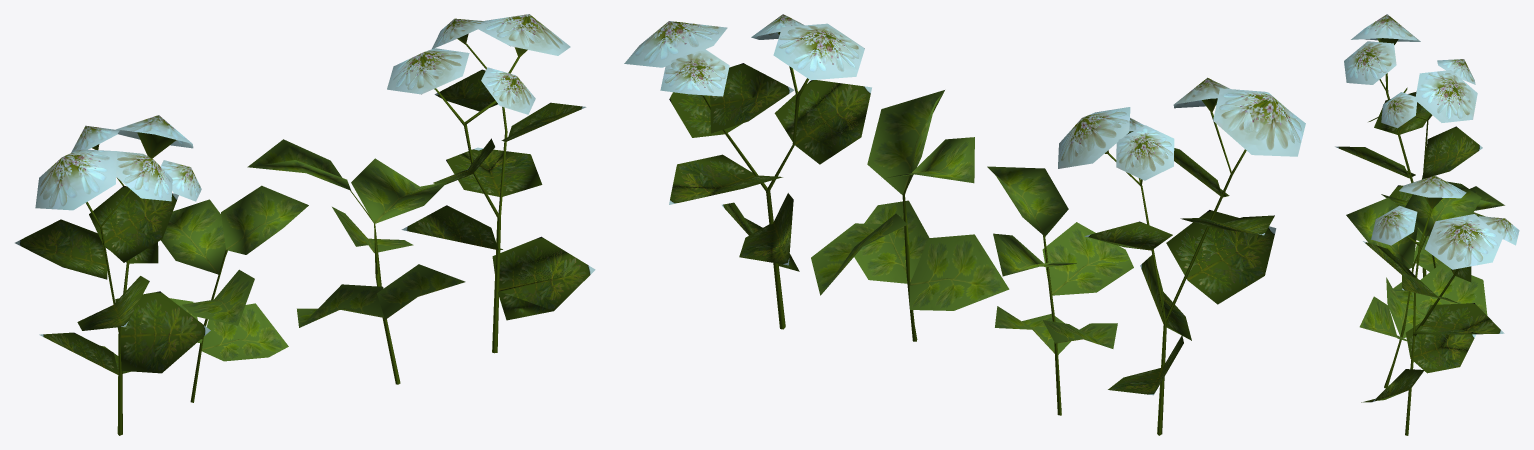
The model's file is Coriandrum sativum_m.FBX.
3 views of the same model, side by side, from view 1: azimuth 30°, elevation 25°; view 2: azimuth 150°, elevation 25°; view 3: azimuth 270°, elevation 25° (orthographic). The views are drawn at different scales.
Parts seen in each view (by area): view 1: Coriandrum sativum01, Coriandrum sativum02, Coriandrum sativum03, Coriandrum sativum04; view 2: Coriandrum sativum02, Coriandrum sativum01, Coriandrum sativum04, Coriandrum sativum03; view 3: Coriandrum sativum02, Coriandrum sativum01, Coriandrum sativum04, Coriandrum sativum03.
Part boxes in pixels (box(x1,y1,x2,y2)): Coriandrum sativum01: box(15, 115, 210, 435); Coriandrum sativum02: box(387, 14, 595, 353); Coriandrum sativum03: box(161, 185, 308, 402); Coriandrum sativum04: box(247, 139, 465, 384); Coriandrum sativum02: box(624, 14, 871, 329); Coriandrum sativum01: box(1058, 77, 1305, 435); Coriandrum sativum04: box(811, 90, 1009, 341); Coriandrum sativum03: box(987, 166, 1133, 415); Coriandrum sativum02: box(1361, 175, 1519, 435); Coriandrum sativum01: box(1335, 14, 1485, 277); Coriandrum sativum04: box(1346, 178, 1487, 388); Coriandrum sativum03: box(1381, 186, 1504, 298).
Size of the model in its own units: 149 by 78.25 by 52.48.
